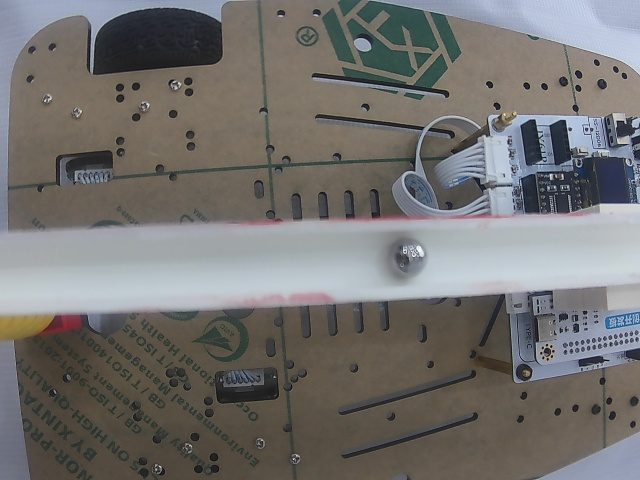steelball: (387, 238, 429, 279)
